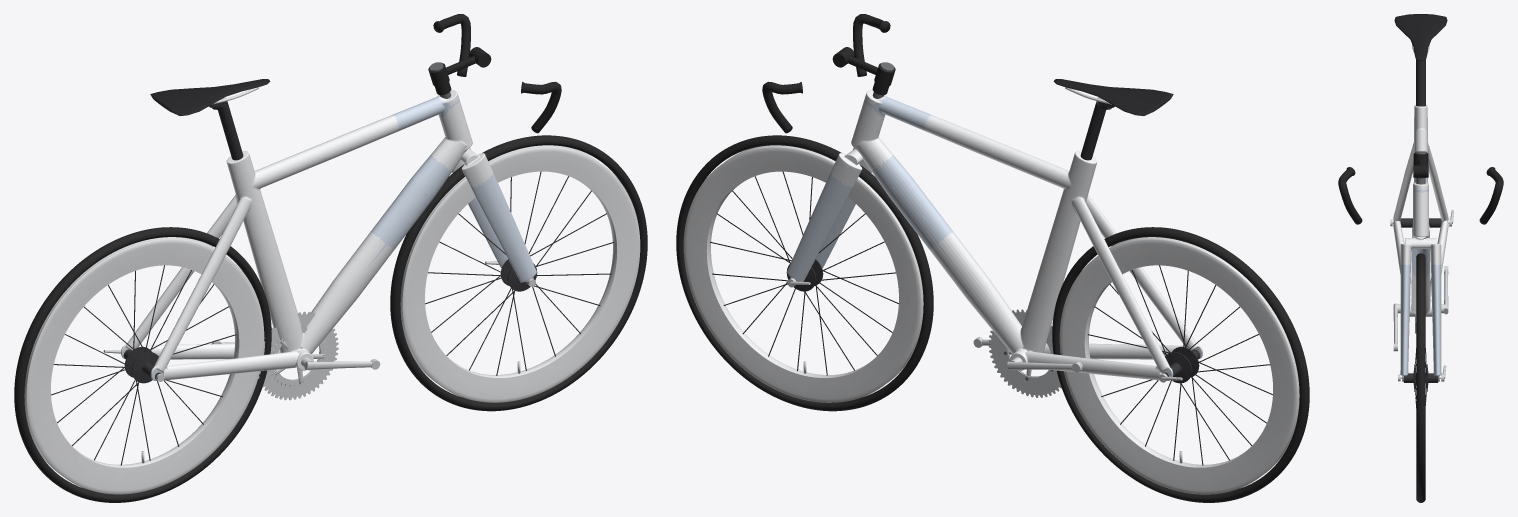
File: bike_web.glb
3 renders of one model, left to right at view 1: azimuth 30°, elevation 25°; view 2: azimuth 150°, elevation 25°; view 3: azimuth 270°, elevation 25°, orthographic. The views are drawn at different scales.
Visible parts, largest first — view 1: frame, rim_rear, rim_front, tyre_rear, tyre_front, fork, spokes_front, chainrings, spokes_rear, saddle, dropbar, stem (+3 smaller); view 2: frame, rim_rear, rim_front, tyre_rear, tyre_front, fork, spokes_front, spokes_rear, saddle, chainrings, dropbar, stem (+3 smaller); view 3: frame, fork, tyre_front, saddle, dropbar, crank_arms, stem, seatpost, hub_front, hub_rear.
Boxes of the visible parts, <box> form: frame: <box>121,90,472,380</box>; rim_rear: <box>24,237,264,494</box>; rim_front: <box>400,145,640,402</box>; tyre_rear: <box>14,227,271,502</box>; tyre_front: <box>390,135,647,411</box>; fork: <box>452,147,536,283</box>; spokes_front: <box>425,171,614,375</box>; chainrings: <box>258,311,338,400</box>; spokes_rear: <box>51,265,236,465</box>; saddle: <box>150,79,270,115</box>; dropbar: <box>433,14,561,133</box>; stem: <box>428,47,491,98</box>; frame: <box>851,90,1202,380</box>; rim_rear: <box>1059,237,1299,494</box>; rim_front: <box>683,145,923,402</box>; tyre_rear: <box>1052,227,1309,502</box>; tyre_front: <box>676,135,933,411</box>; fork: <box>787,147,871,281</box>; spokes_front: <box>710,171,898,375</box>; spokes_rear: <box>1087,265,1272,465</box>; saddle: <box>1053,79,1173,115</box>; chainrings: <box>988,309,1061,397</box>; dropbar: <box>762,14,890,133</box>; stem: <box>832,47,895,98</box>; frame: <box>1393,105,1448,316</box>; fork: <box>1400,238,1441,381</box>; tyre_front: <box>1416,253,1425,502</box>; saddle: <box>1394,14,1447,60</box>; dropbar: <box>1338,167,1503,224</box>; crank_arms: <box>1393,266,1448,351</box>; stem: <box>1413,151,1428,184</box>; seatpost: <box>1416,59,1425,106</box>; hub_front: <box>1402,364,1439,391</box>; hub_rear: <box>1400,218,1441,227</box>.
Bounding box in the file's own units: 1.66 × 0.9827 × 0.4466.
